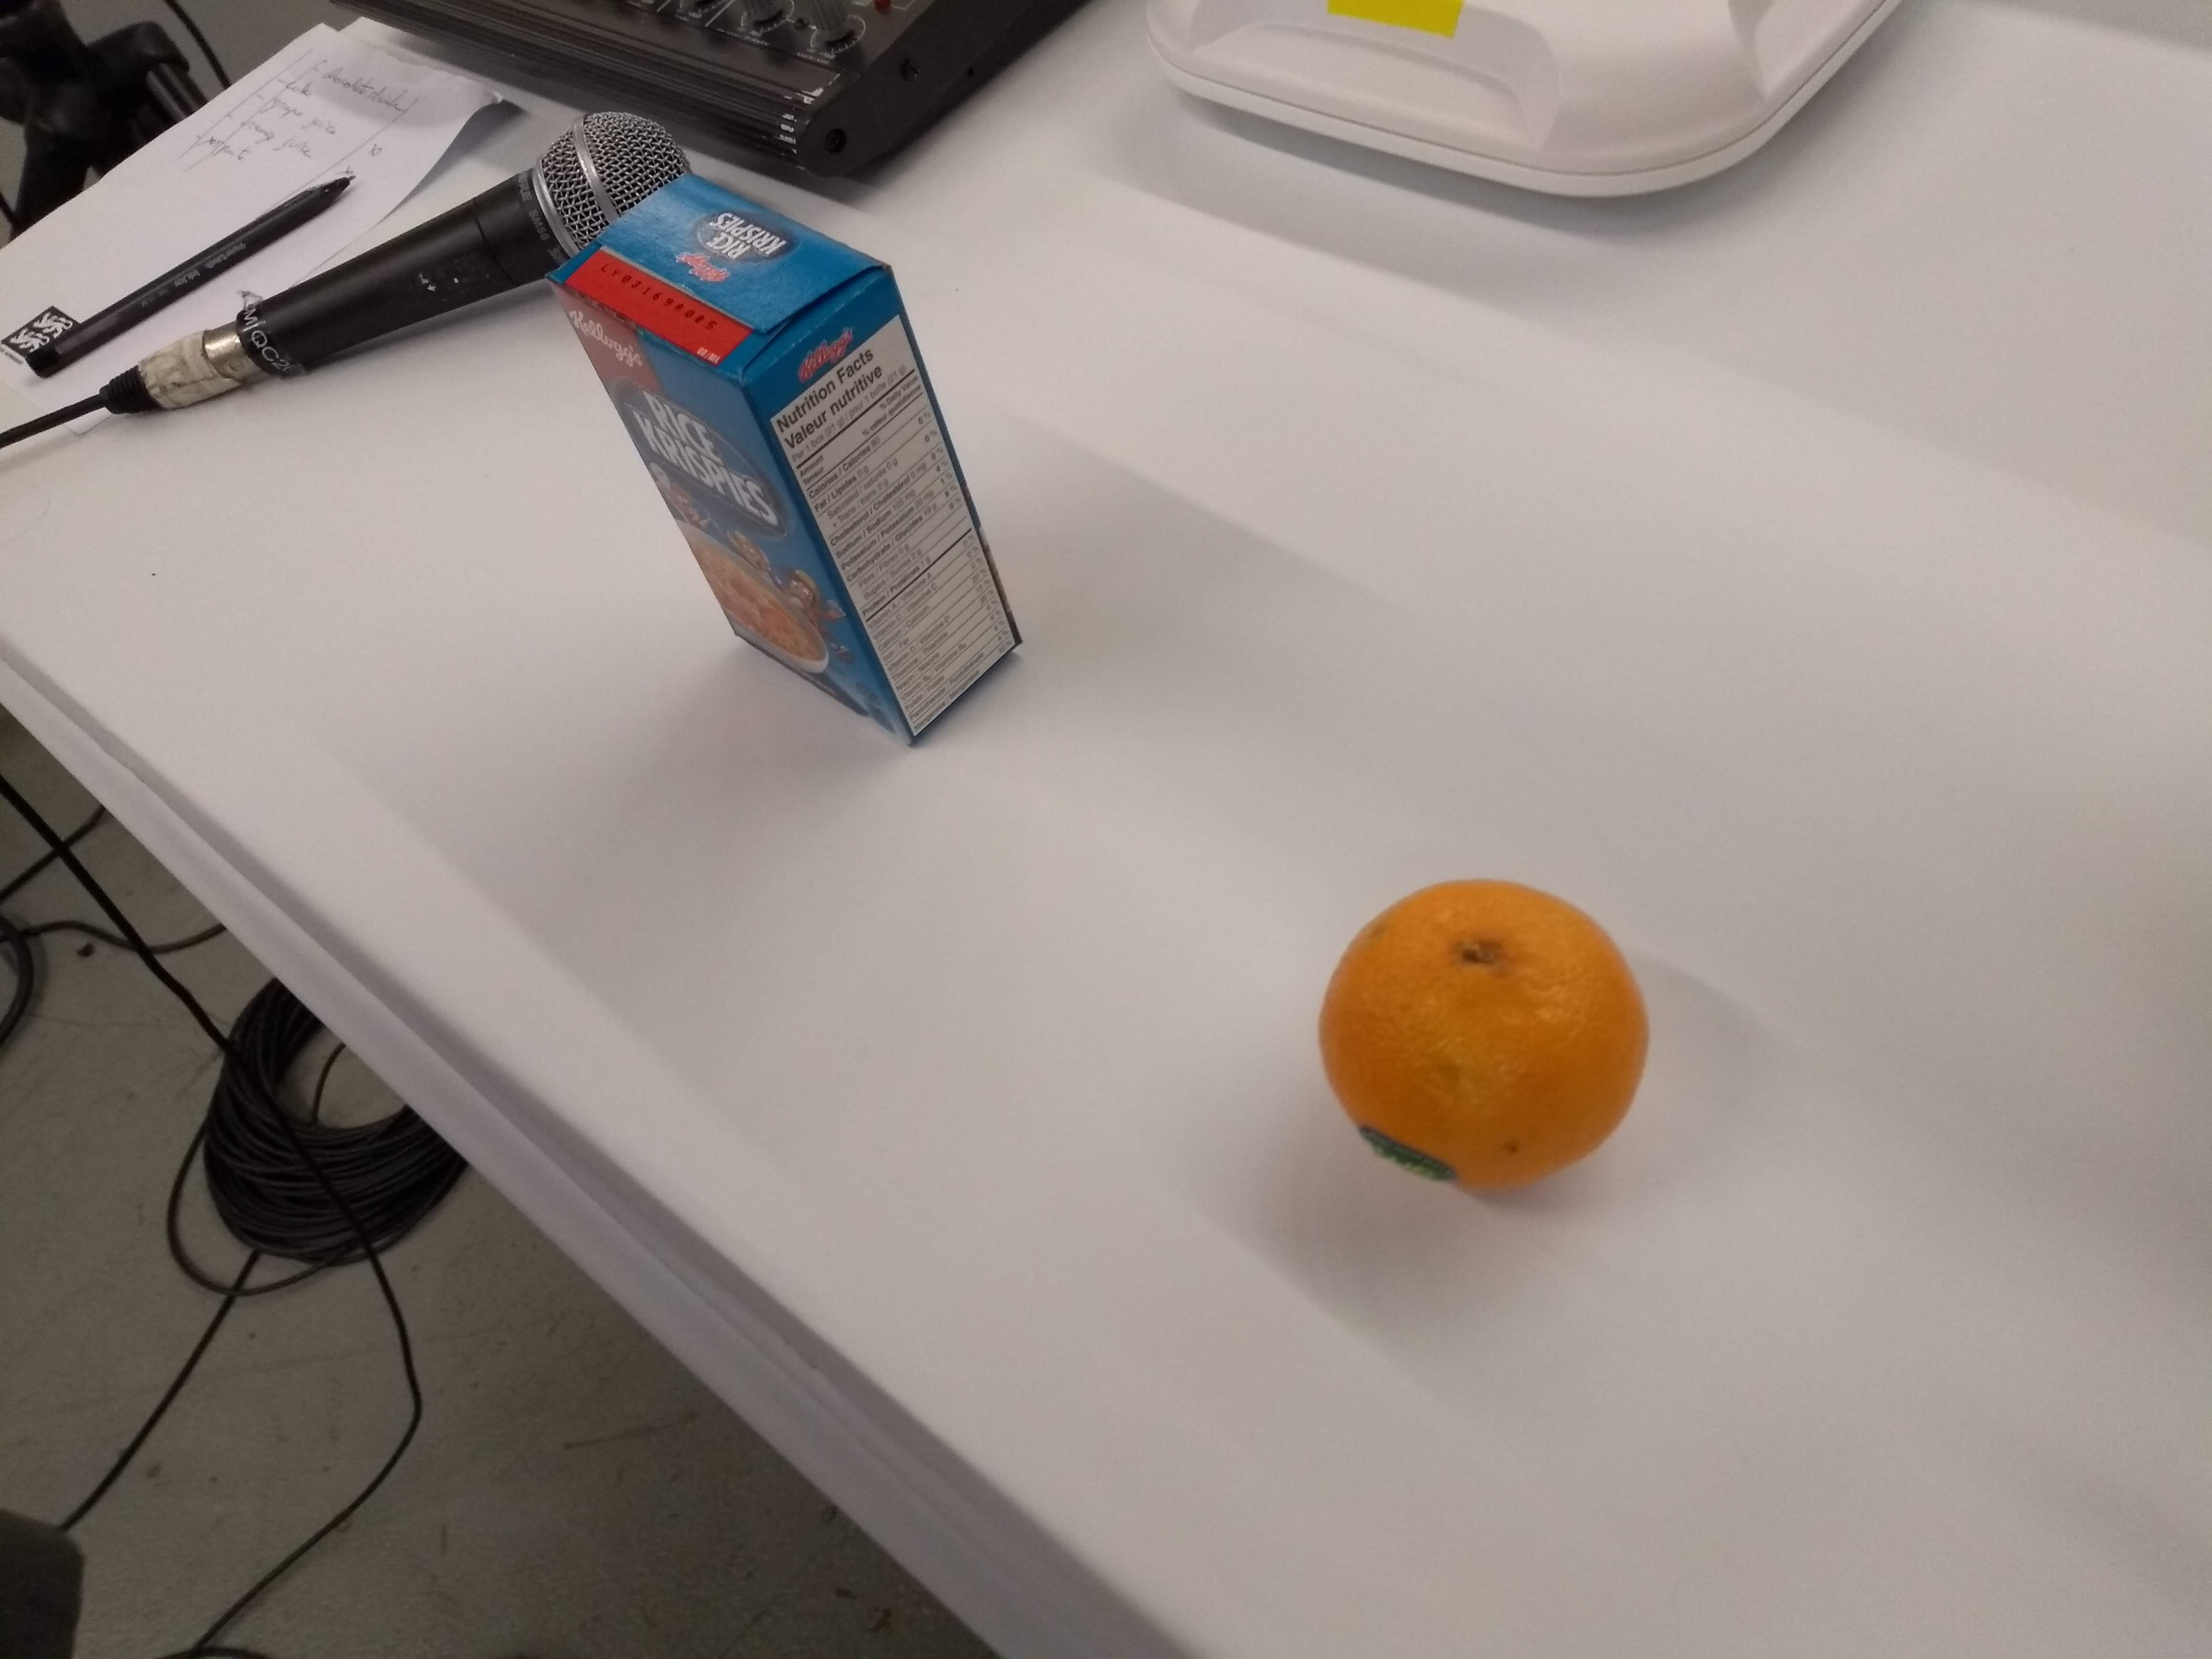cereal: (538, 167, 1035, 767)
orange: (1303, 870, 1674, 1204)
